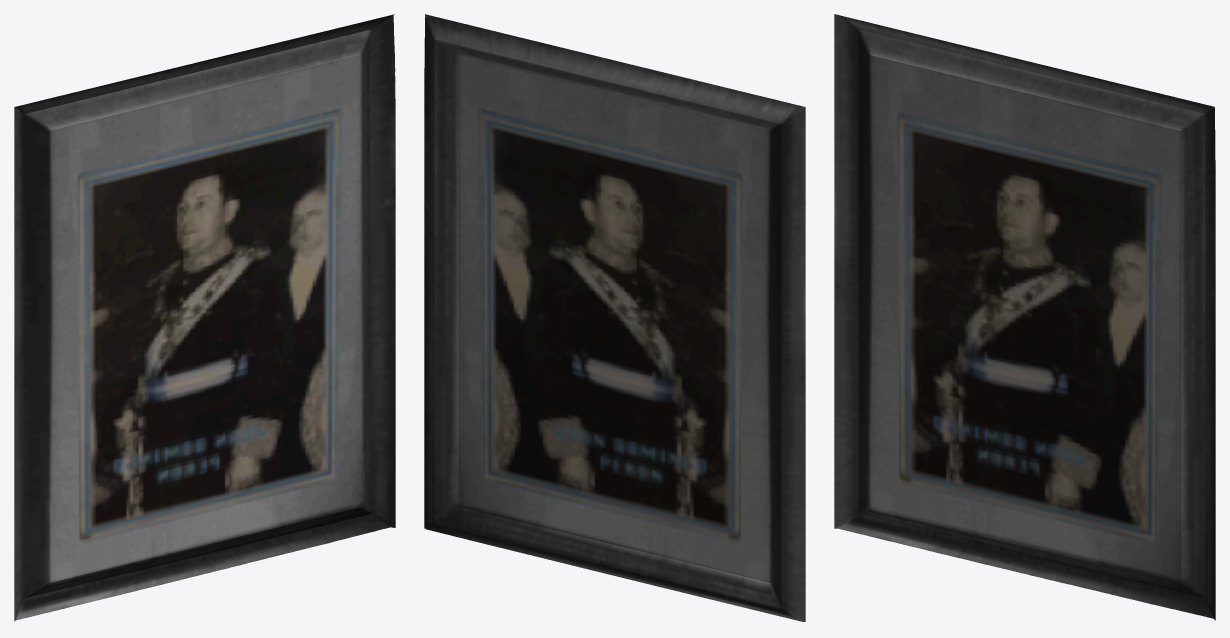
Rendered from Peron.fbx.
3 renders of one model, left to right at view 1: azimuth 30°, elevation 25°; view 2: azimuth 150°, elevation 25°; view 3: azimuth 330°, elevation 25°, orthographic.
Visible parts, largest first — view 1: Peron; view 2: Peron; view 3: Peron.
Part boxes in pixels (box(x1,y1,x2,y2)): Peron: box(14, 14, 395, 621); Peron: box(424, 14, 805, 621); Peron: box(834, 14, 1215, 620).
Bounding box in the file's own units: 0.1324 × 0.1714 × 0.00414.
